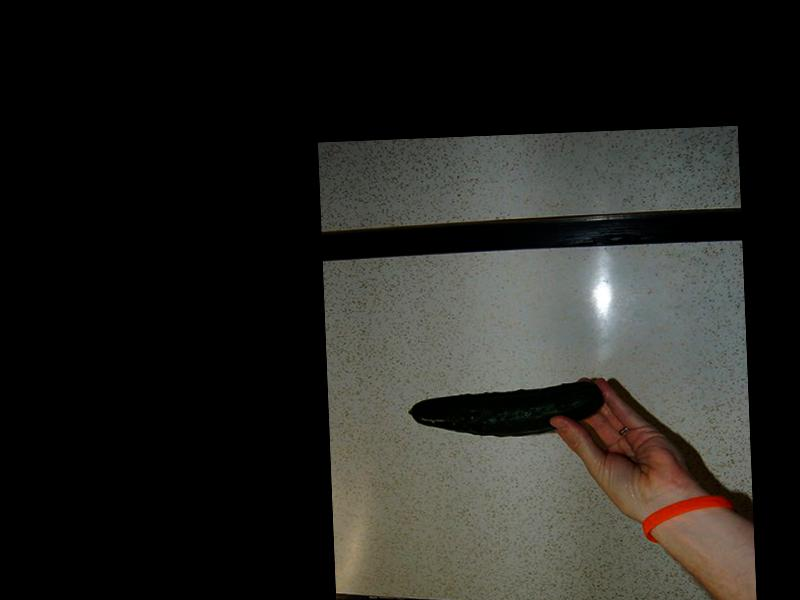Cucumber: (406, 380, 604, 438)
